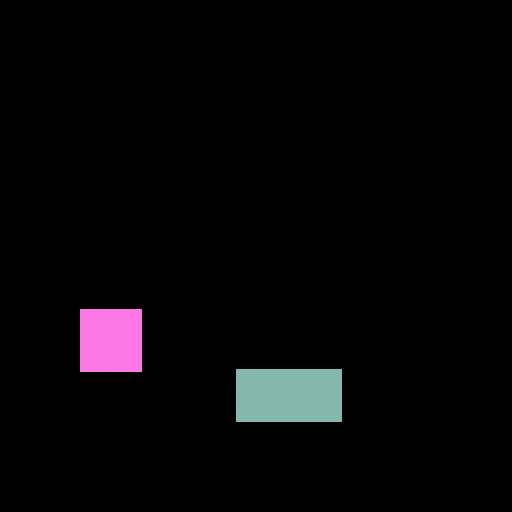rectangle: (236, 369, 341, 421)
square: (80, 309, 141, 371)
